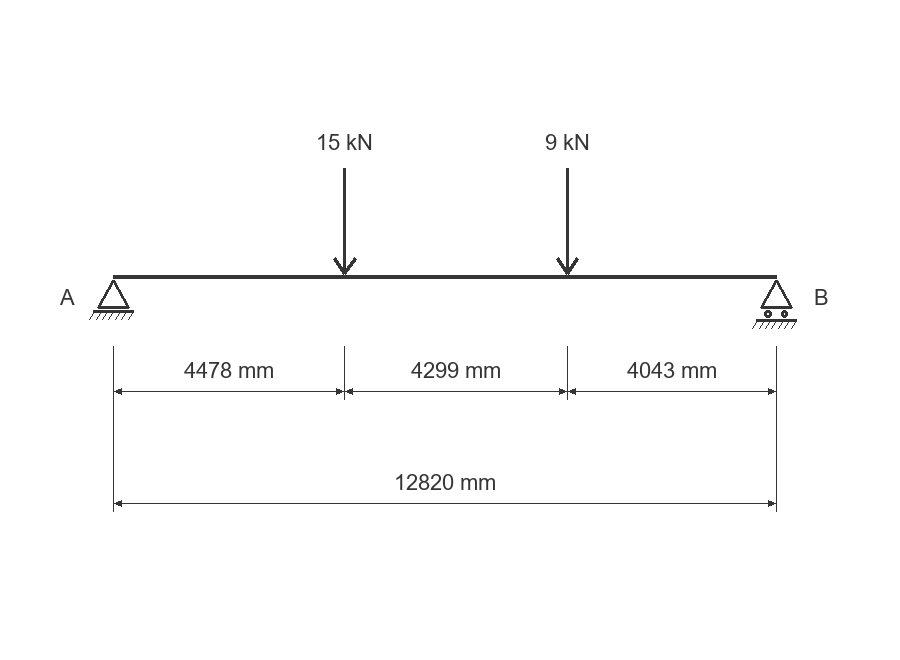pin_support: (89, 280, 134, 320)
point_load: (333, 168, 357, 275), (556, 168, 579, 275)
roller_support: (752, 280, 797, 329)
